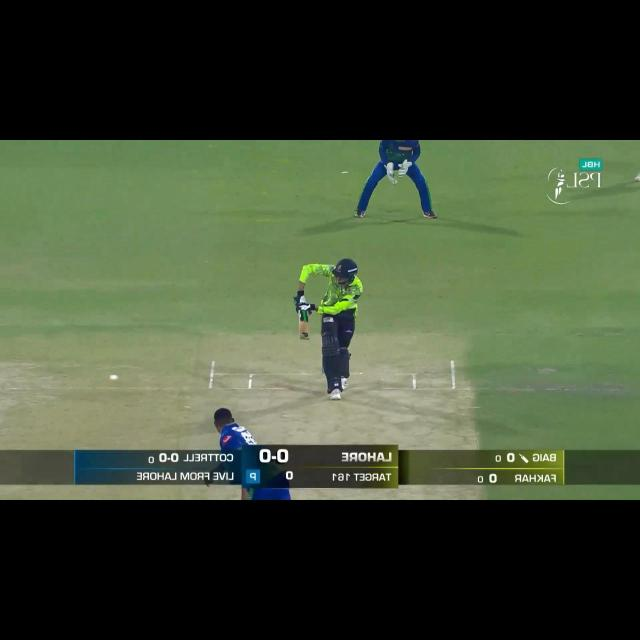bat: (298, 309, 310, 343)
toe: (299, 336, 310, 341)
